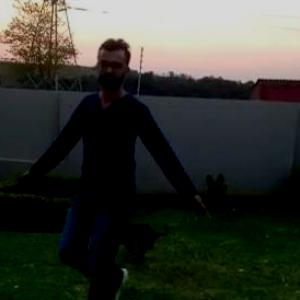land: (23, 61, 200, 297)
